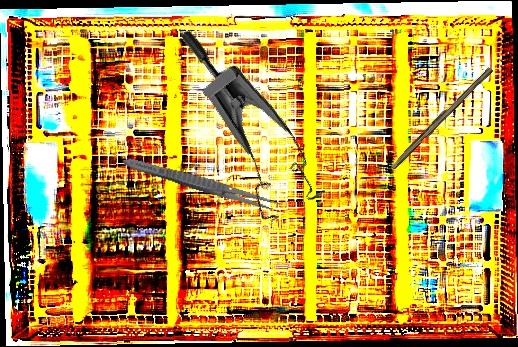Dressing Forceps: (120, 153, 284, 215)
Scalpel Handle: (388, 64, 494, 172)
Speculum: (123, 26, 352, 240)
